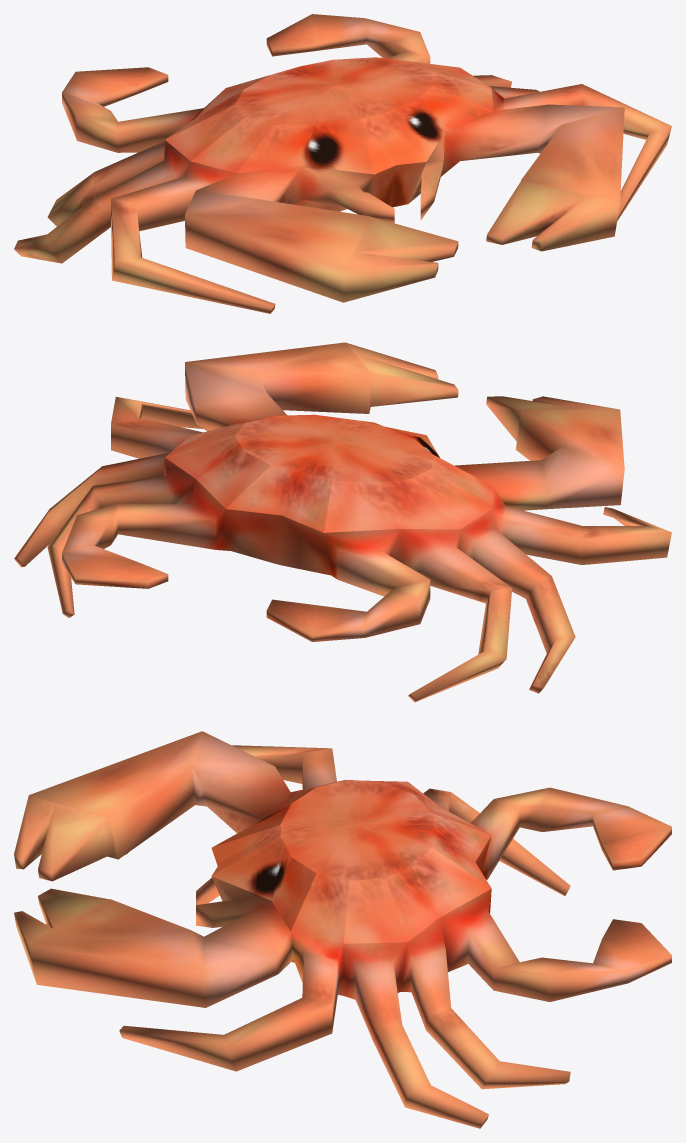
File: Crab.fbx
3 renders of one model, top to bottom at view 1: azimuth 30°, elevation 25°; view 2: azimuth 150°, elevation 25°; view 3: azimuth 270°, elevation 25°, orthographic. The views are drawn at different scales.
Parts seen in each view (by area): view 1: Crab; view 2: Crab; view 3: Crab.
Part boxes in pixels (x1,y1,x2,y2): Crab: (14,14,671,313); Crab: (14,342,671,702); Crab: (14,731,671,1128).
Size of the model in its own units: 196 by 50.47 by 181.
